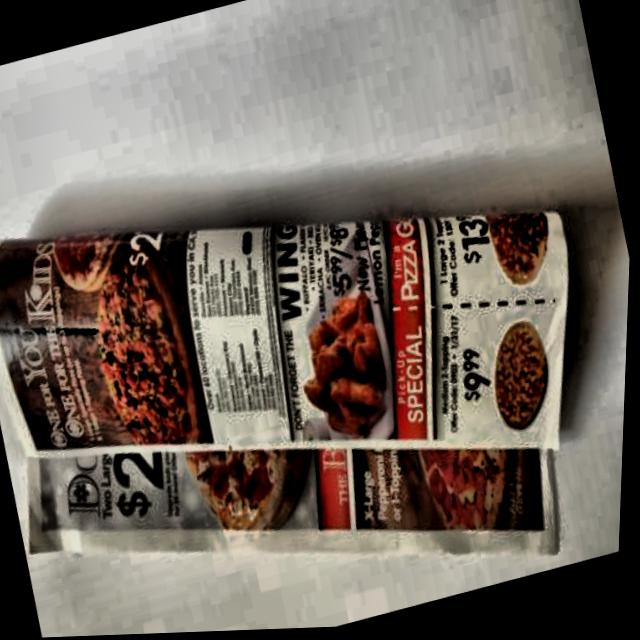Paper: (0, 84, 637, 640)
